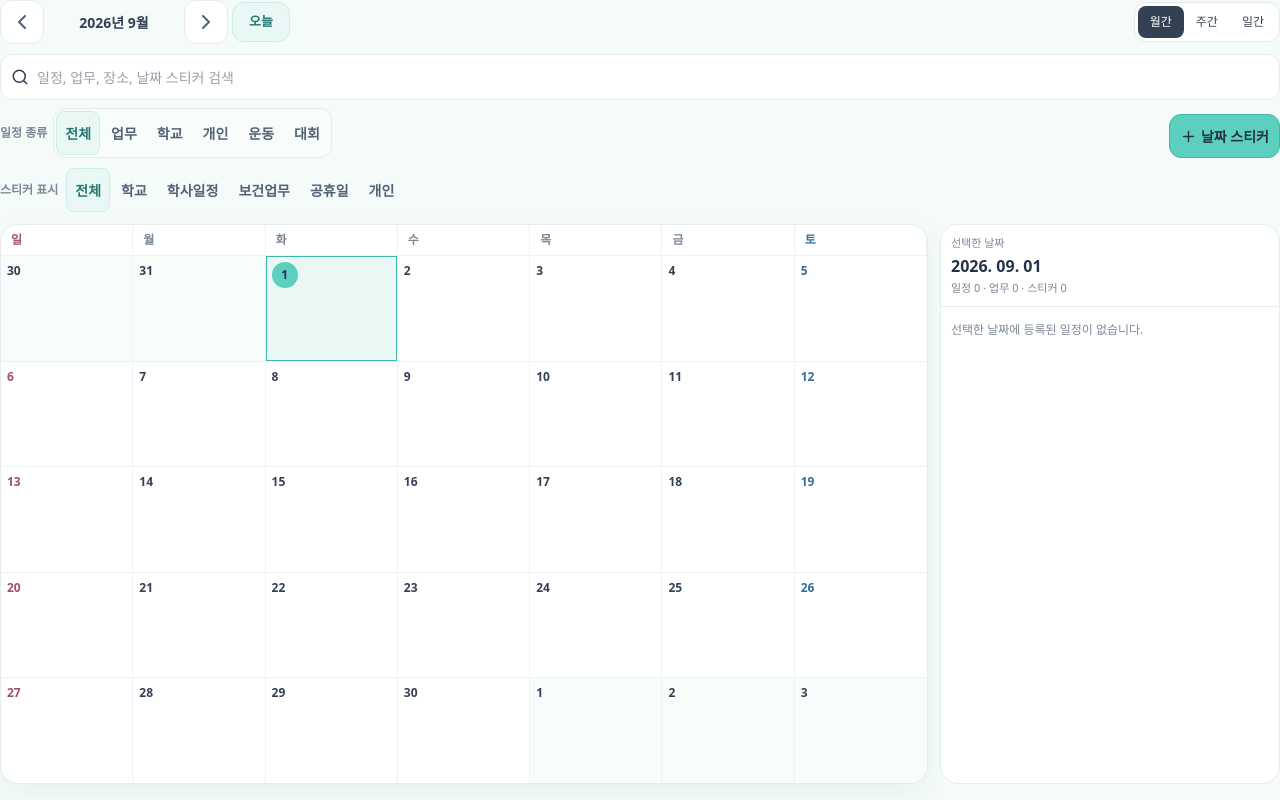
CalendarWorkspace mobile date detail › hands the selected mobile date to the existing event create form
The width and height of the screenshot is (1280, 800).
Click the button named "2026-09-08 선택".
click(331, 384)  # box [272,368,391,400]
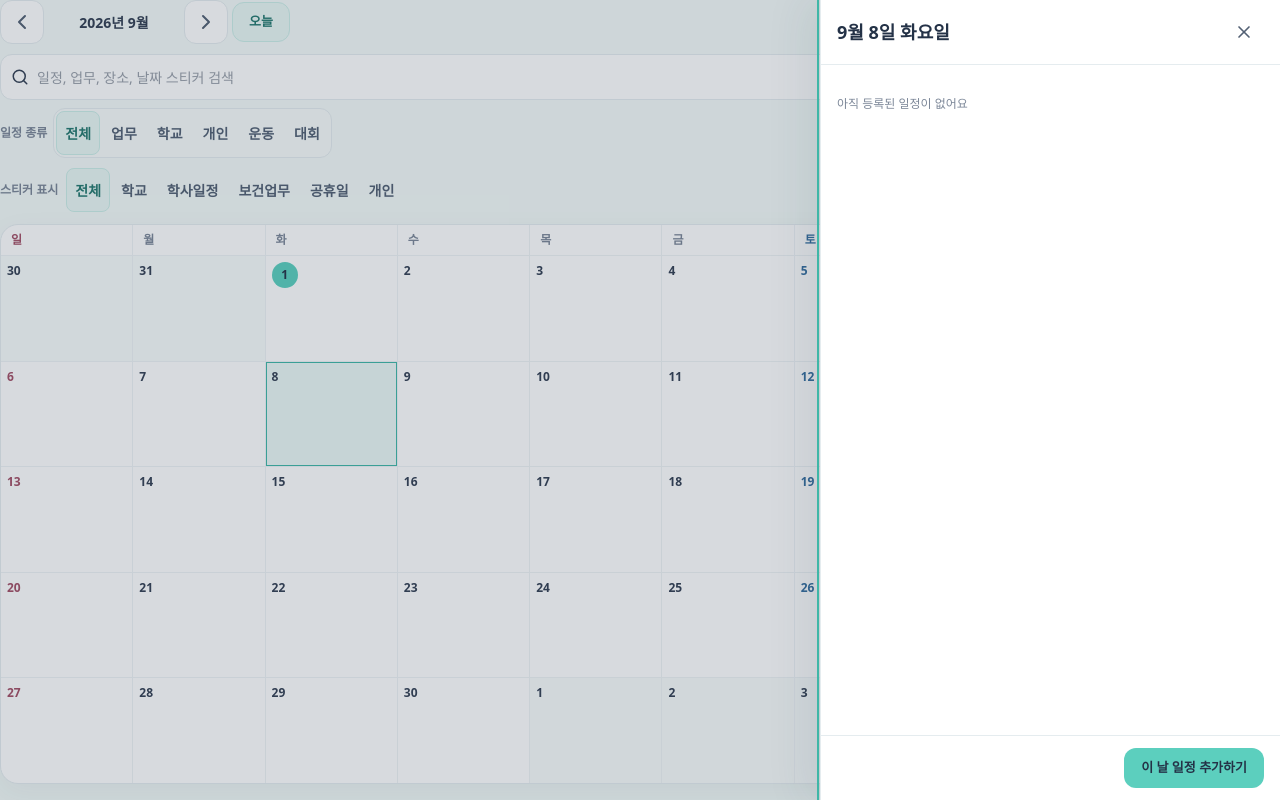
Click the button "이 날 일정 추가하기".
click(1194, 768)  # box [1124,748,1264,788]
(page scrolled)
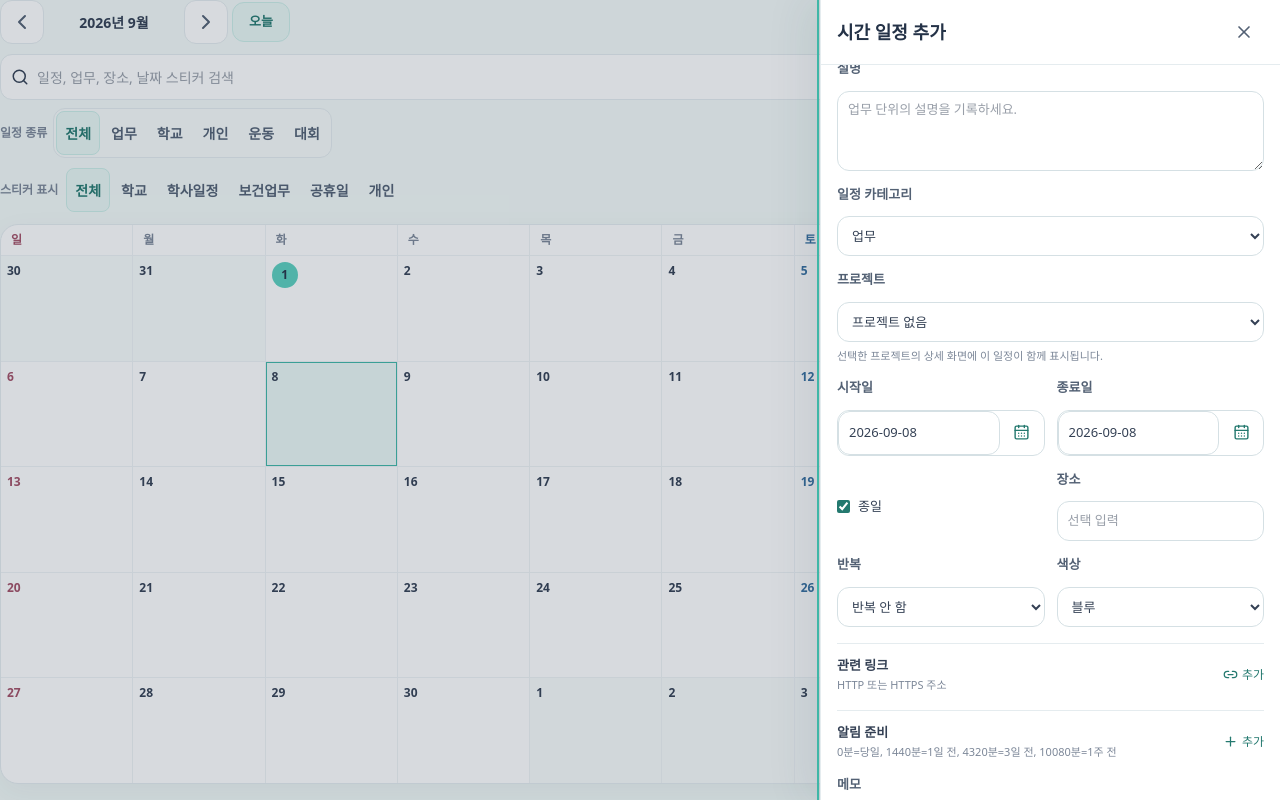
expect the dropdown labelled "시작일" holds "2026-09-08": met, box [838,410,1000,454]
expect the dropdown labelled "종료일" holds "2026-09-08": met, box [1058,410,1219,454]
